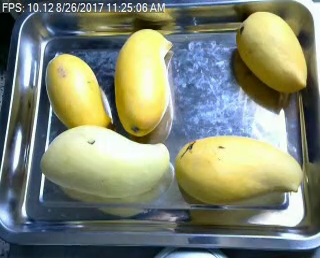Mango: (39, 125, 170, 201), (176, 137, 303, 203), (114, 29, 170, 136), (236, 10, 306, 90), (46, 52, 111, 128)
